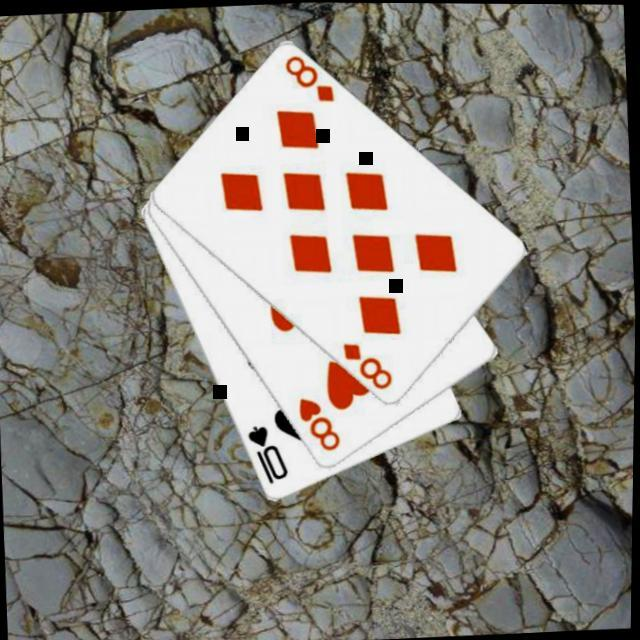10S: (243, 419, 292, 487)
8D: (338, 335, 396, 394), (278, 50, 336, 107)
8H: (293, 392, 344, 455)
